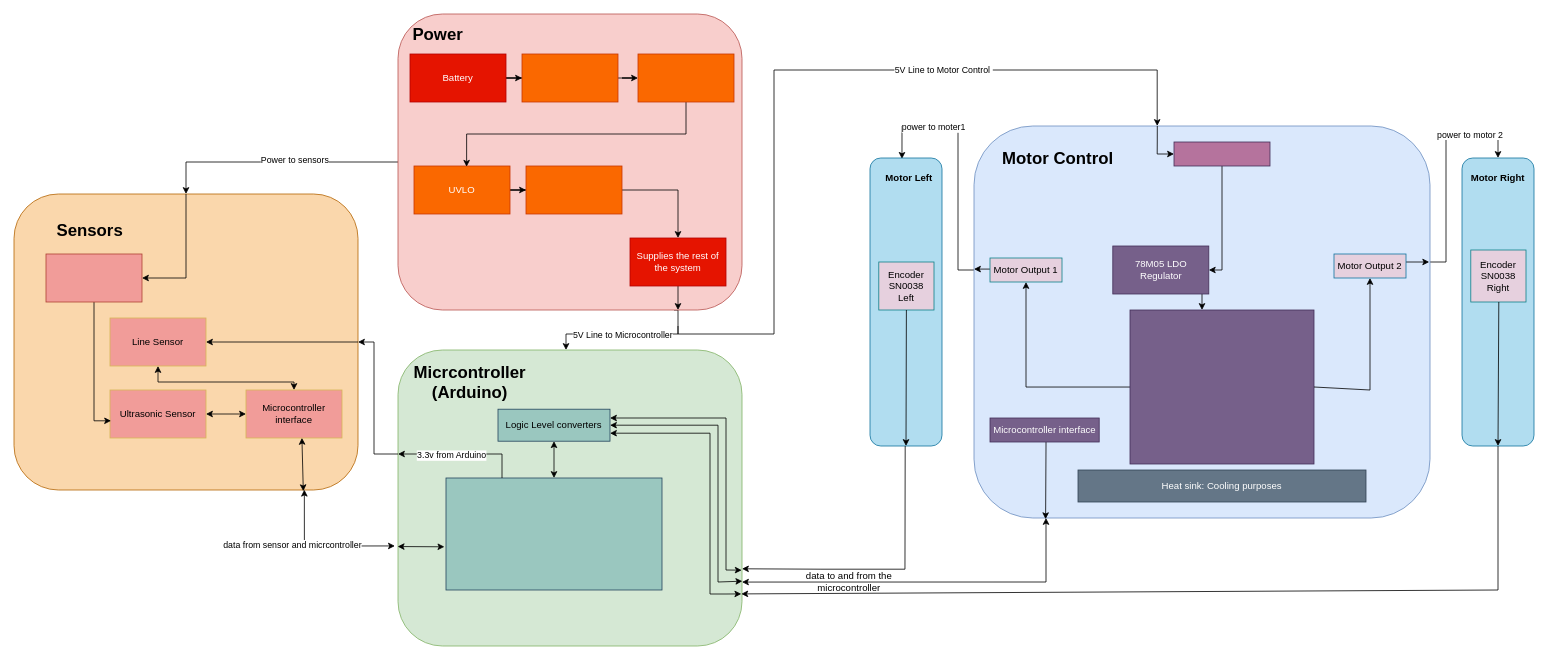
This 1548x660 diagram has some shape labels left out. Here are the shapes that lost their labels. From the top down, the centre of each, then its label:
At (x=569, y=77): "Reverse Polarity Protection".
At (x=685, y=77): "On/Off Switch".
At (x=1221, y=153): "Power Inputs".
At (x=573, y=189): "Low Voltage drop-out regulator (to 5V)".
At (x=93, y=277): "Power interface".
At (x=1221, y=386): "L298N H-Bridge".
At (x=553, y=533): "Arduino".
